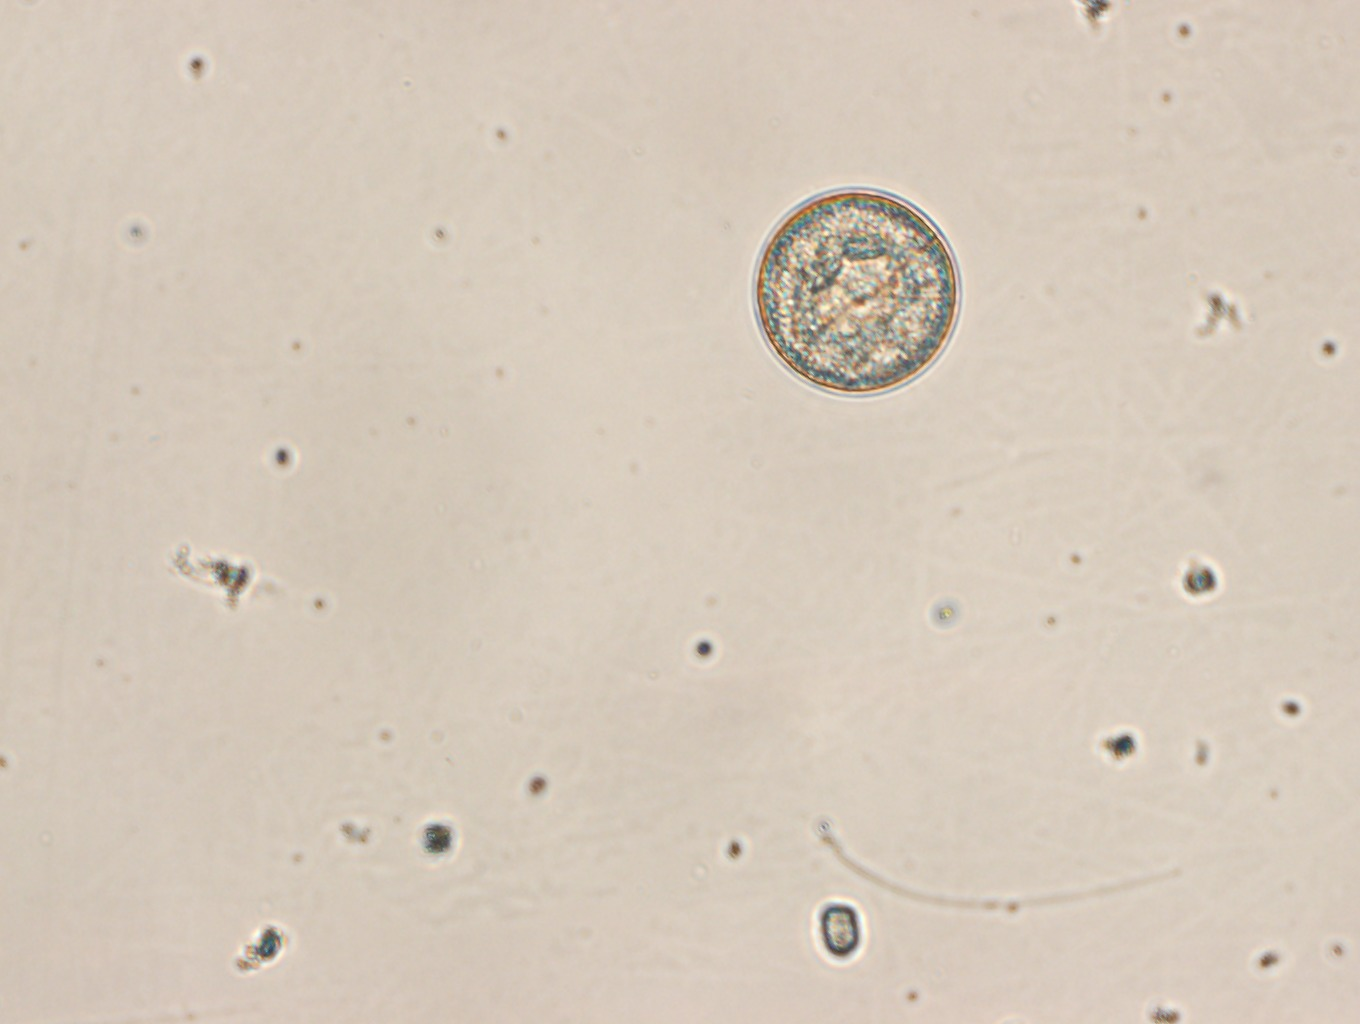coscinodiscus: (751, 188, 960, 397)
